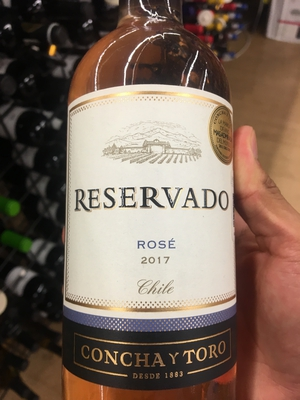reservado rose: (65, 5, 239, 400)
